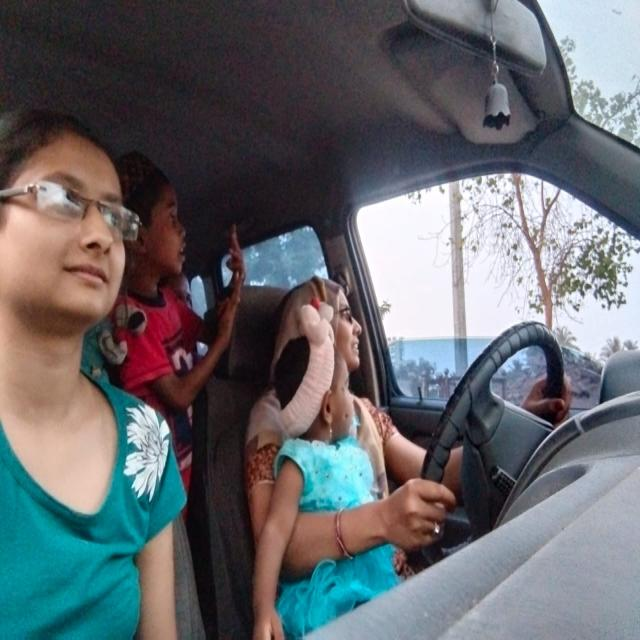child: (269, 334, 361, 452)
person: (0, 100, 127, 339), (125, 154, 199, 292), (335, 286, 374, 370)
